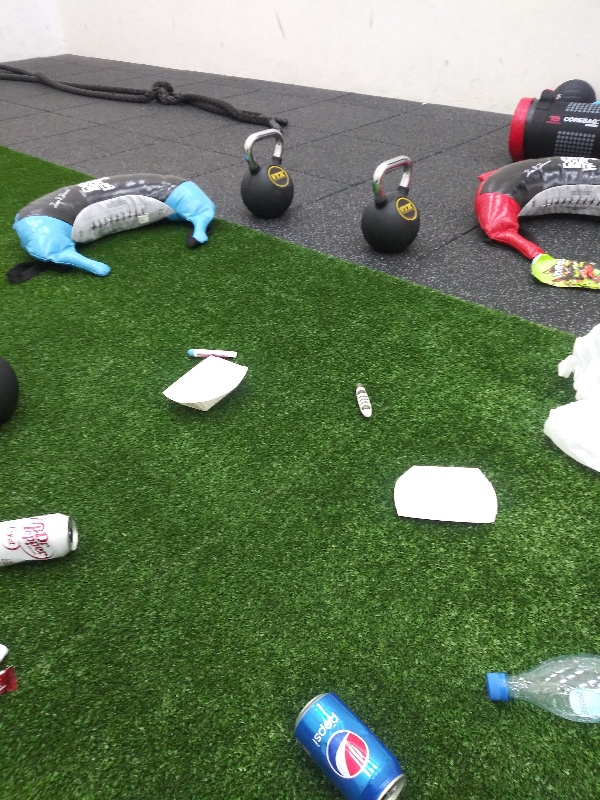bag: (524, 247, 600, 295)
bottle: (481, 647, 600, 730)
can: (287, 688, 411, 800), (1, 509, 84, 570)
plate: (392, 460, 502, 529), (160, 354, 253, 415)
